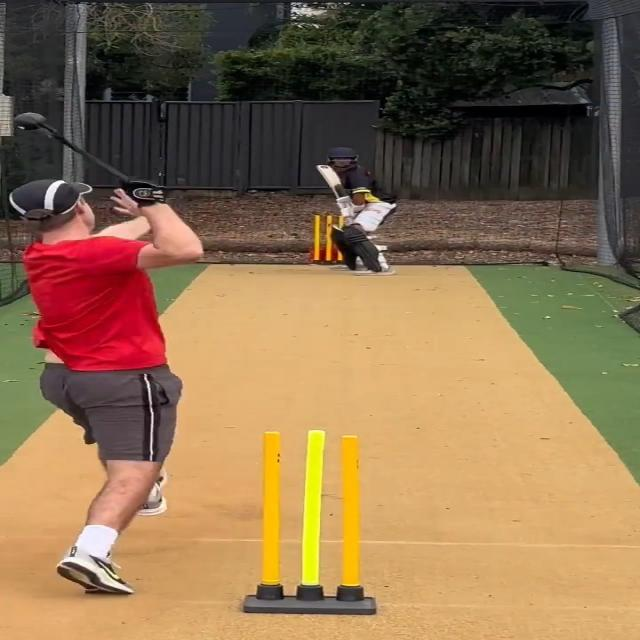stump: (244, 430, 379, 613), (314, 213, 345, 268)
